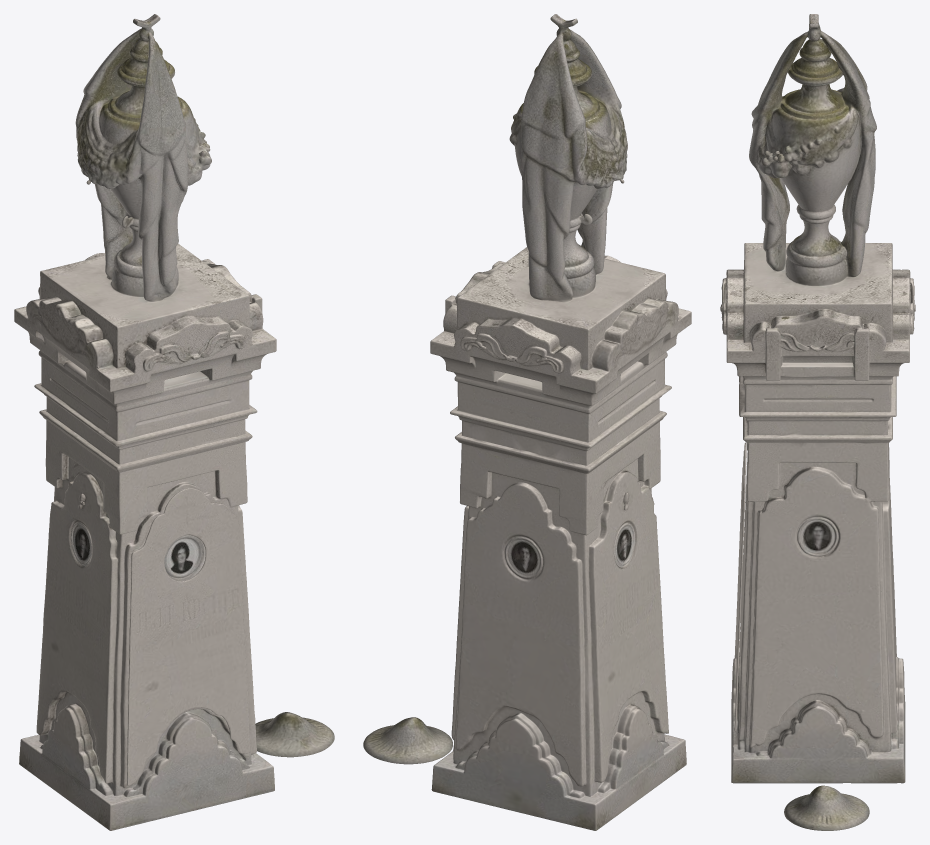
The model's file is mihailo-krstic.glb.
3 renders of one model, left to right at view 1: azimuth 30°, elevation 25°; view 2: azimuth 150°, elevation 25°; view 3: azimuth 270°, elevation 25°, orthographic. The views are drawn at different scales.
Size of the model in its own units: 0.7092 by 1.9 by 0.4654.
1 material, 1 textured.
